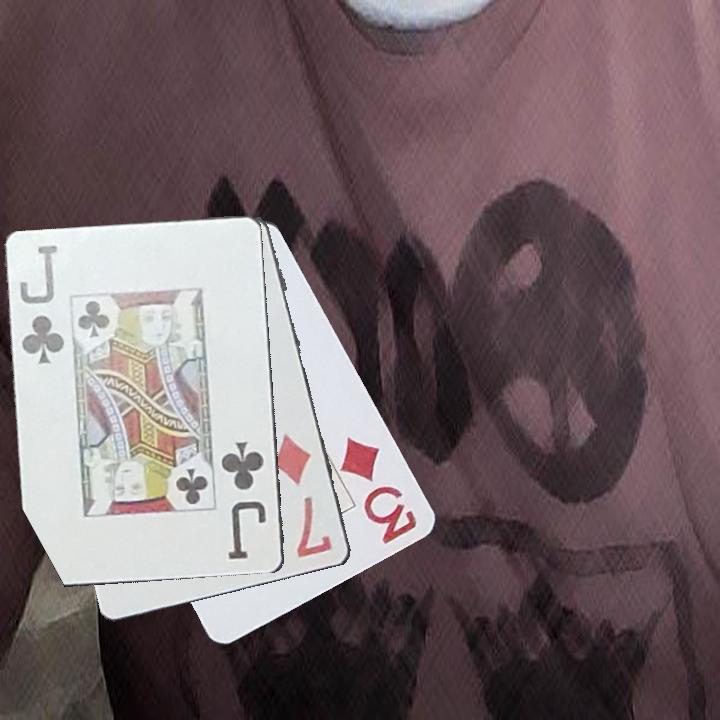3d: (337, 433, 421, 548)
7d: (269, 430, 335, 561)
Jc: (16, 242, 68, 368), (218, 438, 270, 563)
